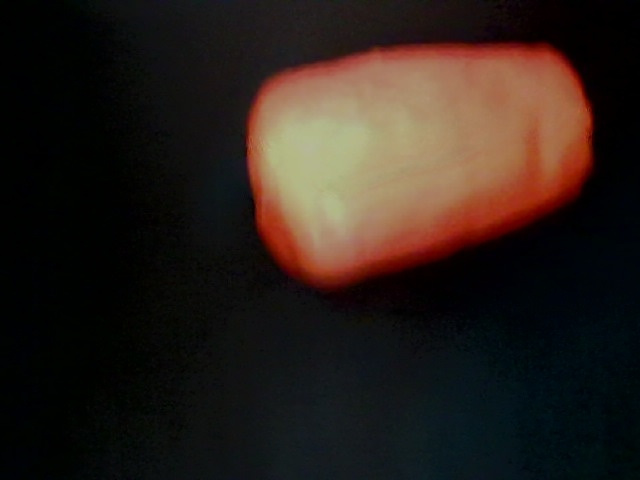KHSLJ: (2, 330, 237, 480)
